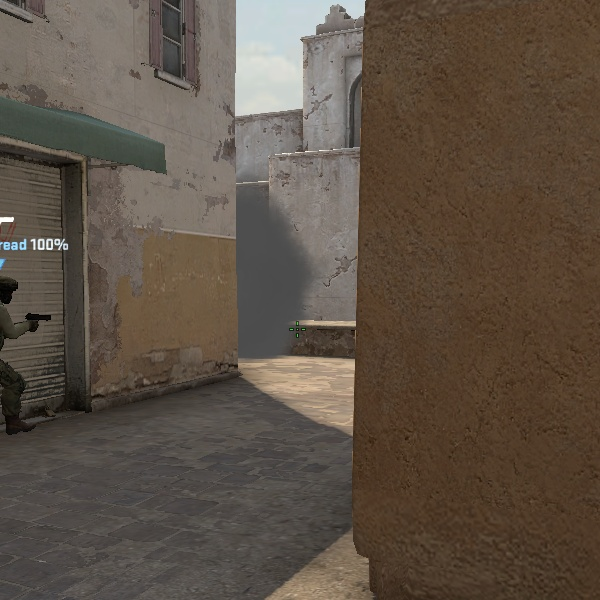ct_body: (0, 274, 47, 440)
ct_head: (0, 268, 23, 308)
